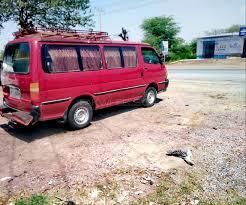Van: (6, 27, 170, 131)
